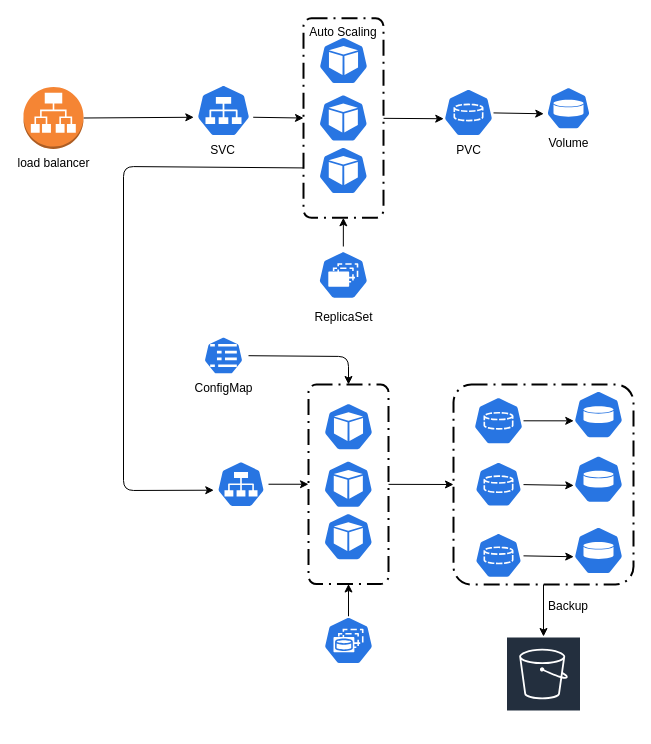
The diagram is 651 pixels wide and 744 high, and some of its shapes have lost their labels. The centre of each missing label's shape, as x and y in pixels:
Amazon S3: the point at 543,681
Headless Service: the point at 240,483
STS: the point at 348,640
